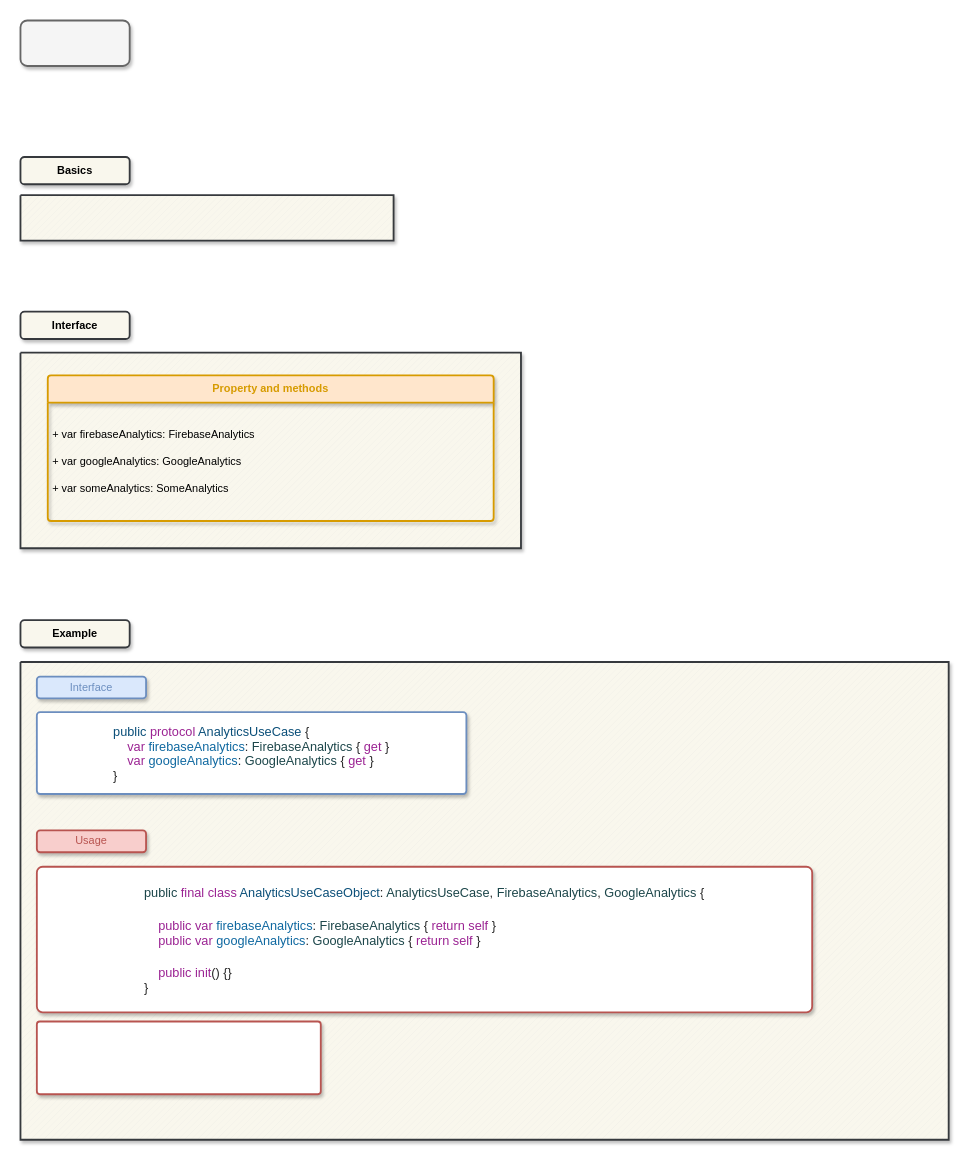
This 970x1162 diagram has some shape labels left out. The shapes that lost their labels are listed below. From the top down, each one's centre as x and y in pixels, then its label:
pixel 75 44: Analytics
pixel 207 219: A type that knows how to perform analytic for user.
pixel 179 1058: AppEnvironment.current.analytics . firebaseAnalytics .screen( "Home" )
